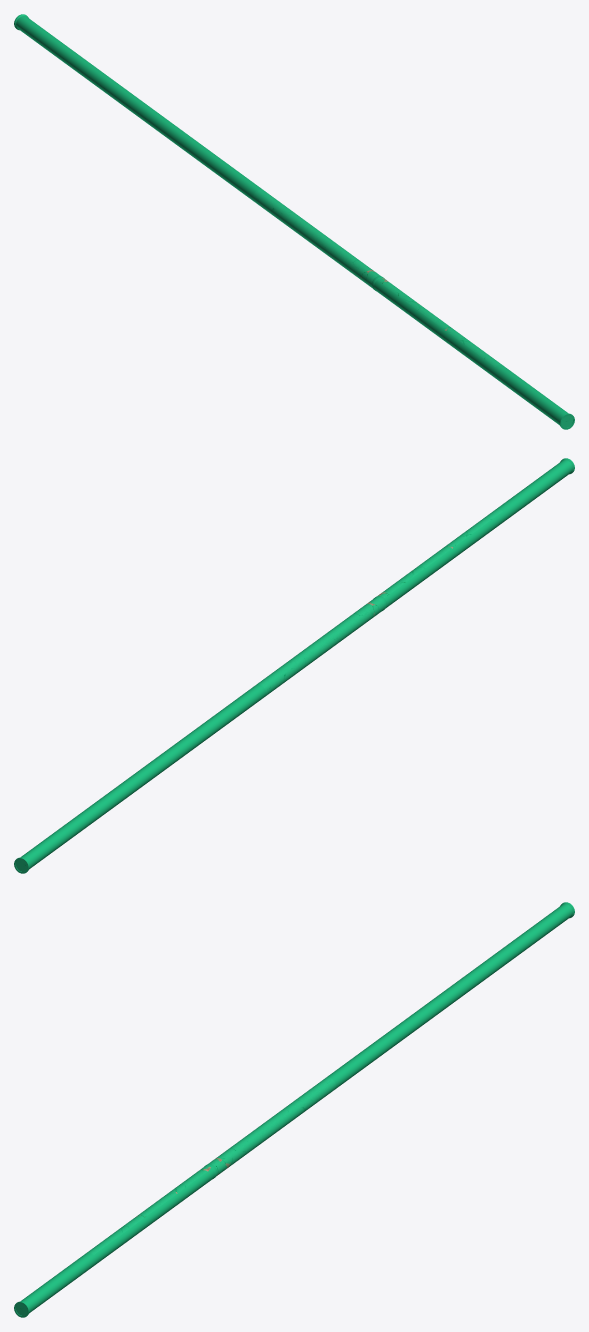
The model's file is bamboopole2.fbx.
3 renders of one model, top to bottom at view 1: azimuth 30°, elevation 25°; view 2: azimuth 150°, elevation 25°; view 3: azimuth 330°, elevation 25°, orthographic.
Parts seen in each view (by area): view 1: bambooPole; view 2: bambooPole; view 3: bambooPole.
Part boxes in pixels (x1,y1,x2,y2): bambooPole: (14, 14, 574, 429); bambooPole: (14, 458, 574, 873); bambooPole: (14, 902, 574, 1317).
Size of the model in its own units: 11.51 by 11.51 by 739.
1 material, 1 textured.
